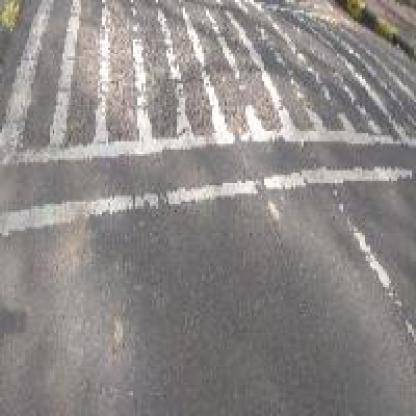Speed Bump: (2, 4, 412, 231)
